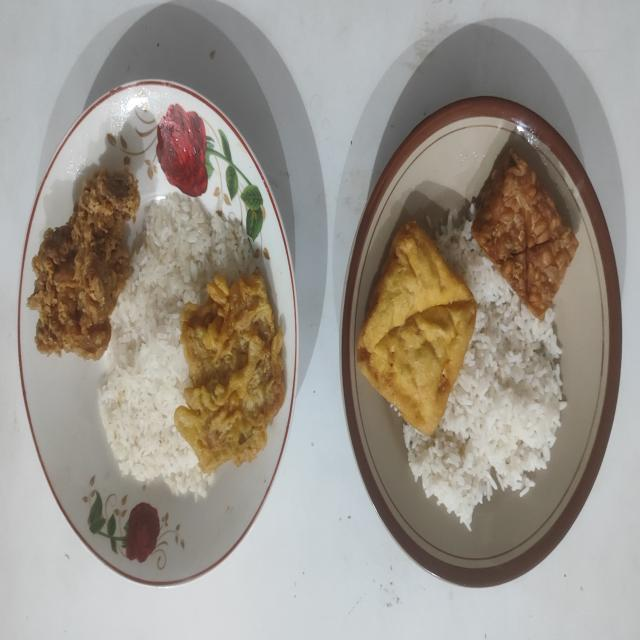nasi_putih: (404, 211, 566, 528), (100, 196, 256, 497)
tahu_goreng: (357, 221, 477, 435)
tempe_goreng: (472, 150, 578, 319)
